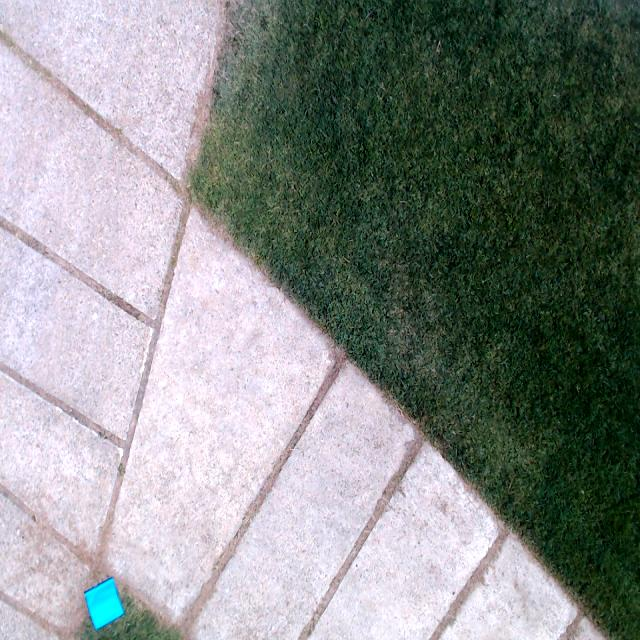blue_square: (84, 576, 124, 630)
